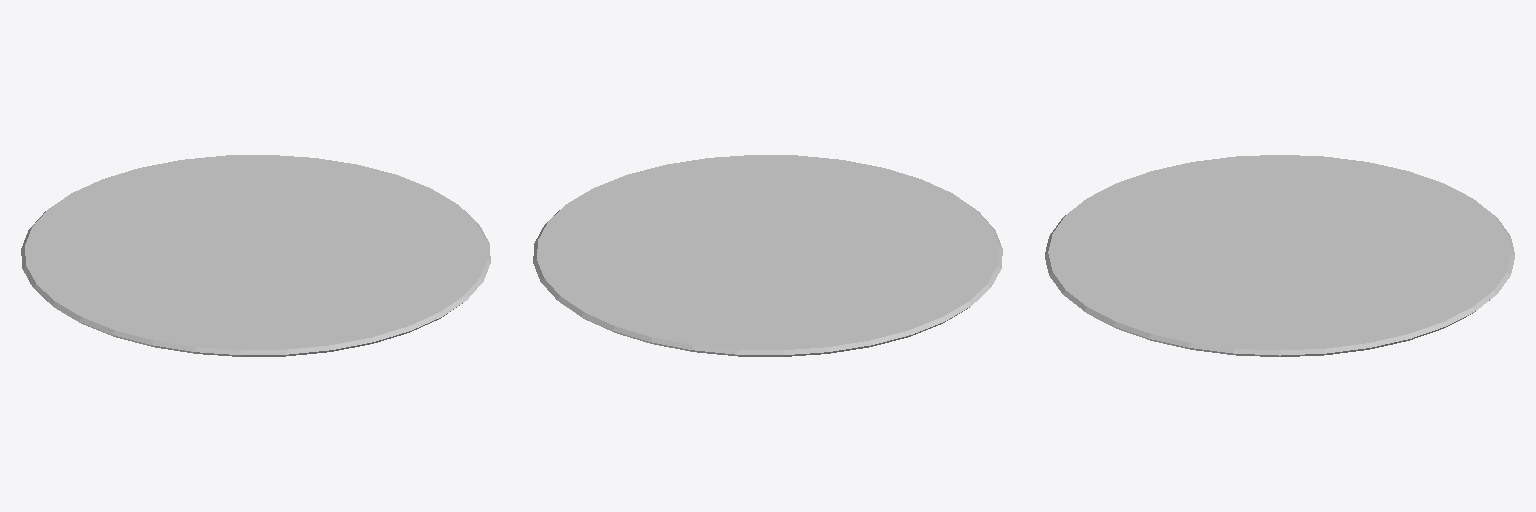
File: Carpet.obj
3 renders of one model, left to right at view 1: azimuth 30°, elevation 25°; view 2: azimuth 150°, elevation 25°; view 3: azimuth 270°, elevation 25°, orthographic.
Parts seen in each view (by area): view 1: Carpet_Circle.001; view 2: Carpet_Circle.001; view 3: Carpet_Circle.001.
Boxes of the visible parts, <box> form: Carpet_Circle.001: <box>21,155,490,356</box>; Carpet_Circle.001: <box>533,155,1002,356</box>; Carpet_Circle.001: <box>1045,155,1514,356</box>.
Bounding box in the file's own units: 3.92 × 0.0622 × 3.92.